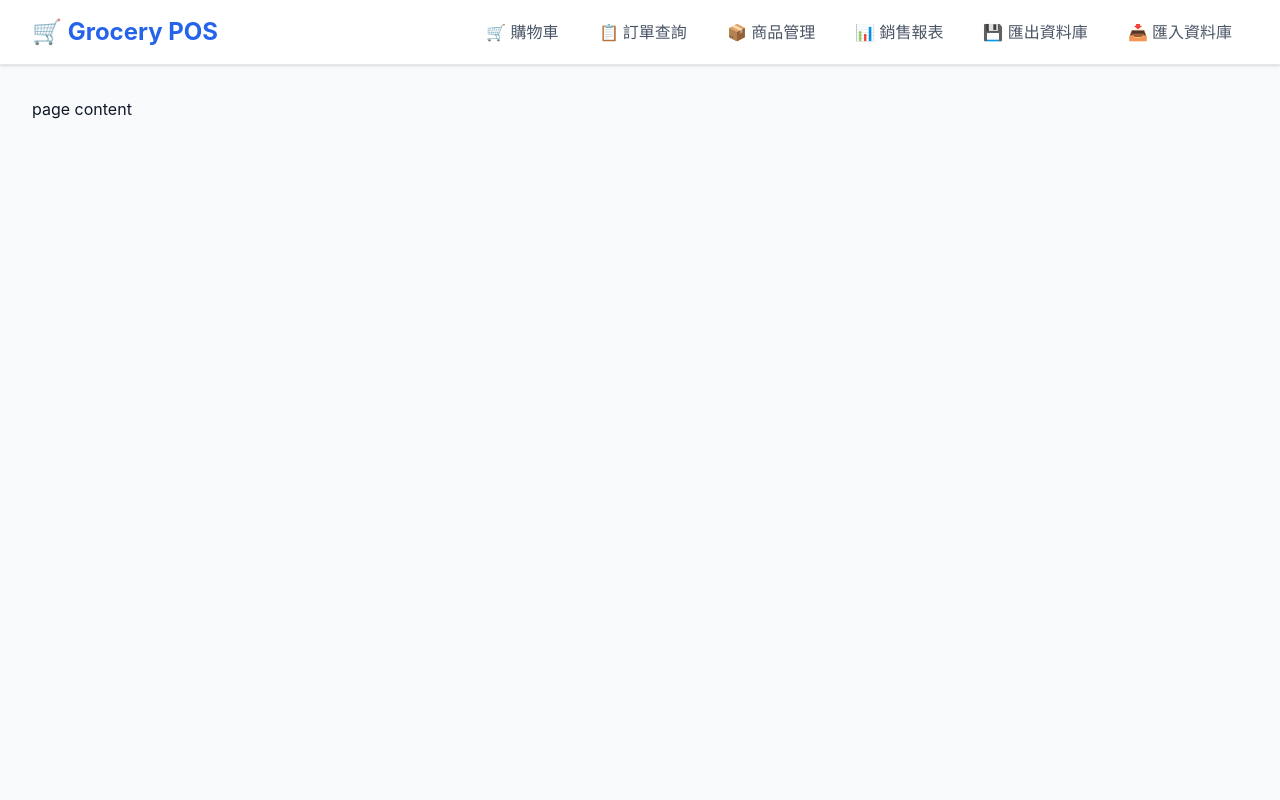
Test: Layout database import › opens the import dialog when 匯入資料庫 is clicked
Click the button "📥 匯入資料庫": (1180,32) [1112,12,1248,52]
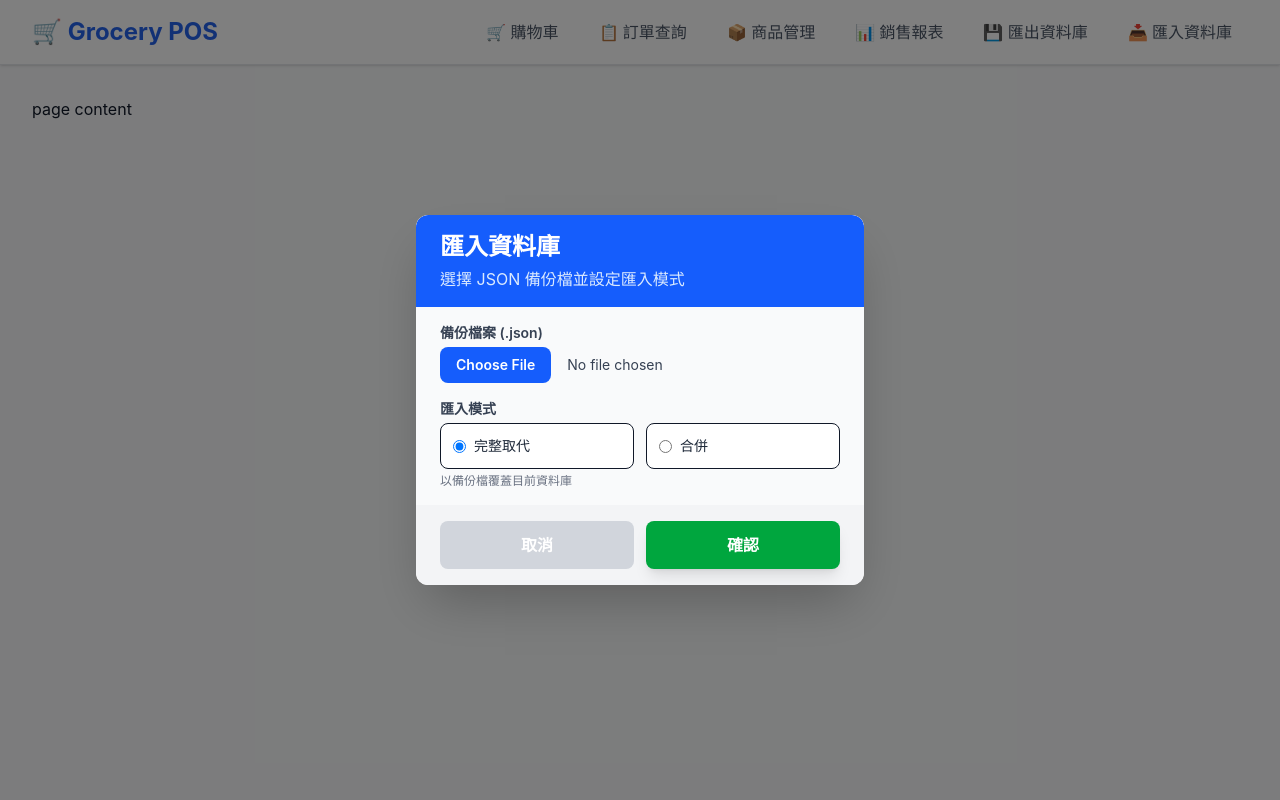
Expected: the heading "匯入資料庫" is shown, [440,232,560,261]
